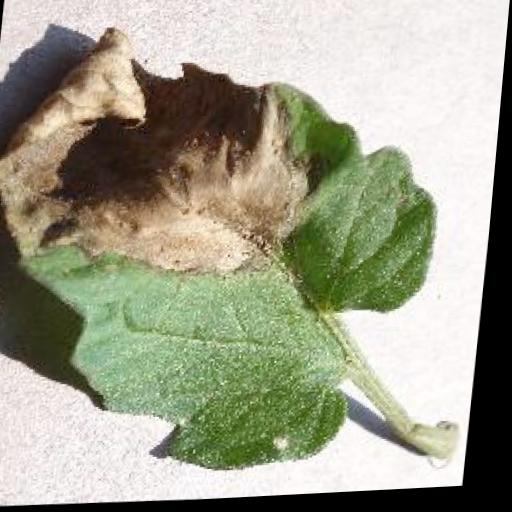Late Blight: (0, 10, 462, 491)
